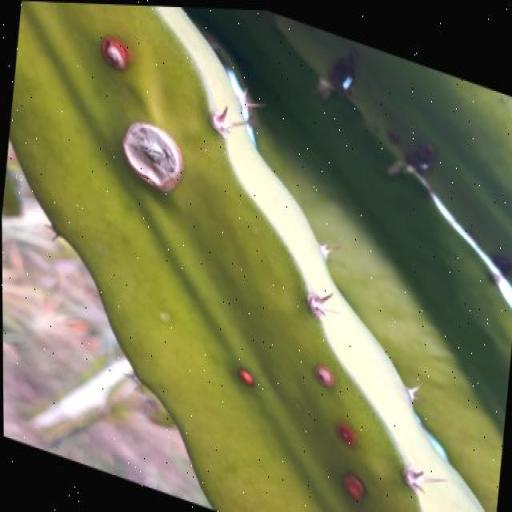stemcanker: (162, 306, 180, 349)
